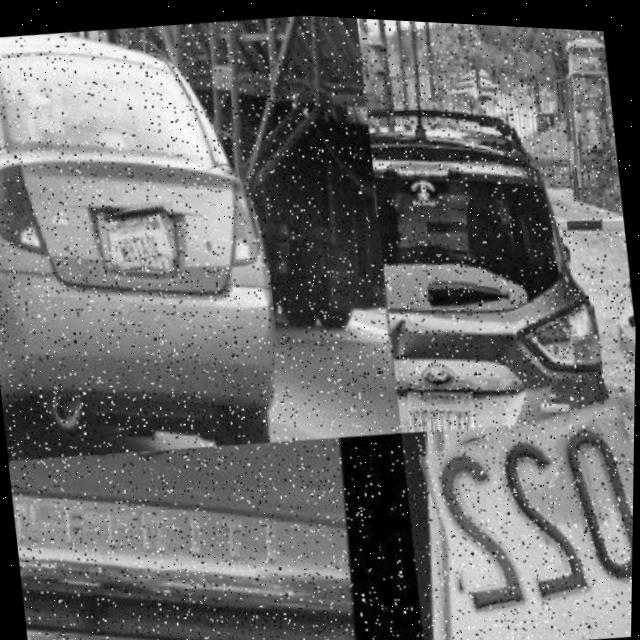LicensePlate: (423, 388, 636, 640), (104, 196, 181, 273), (408, 378, 478, 426)
